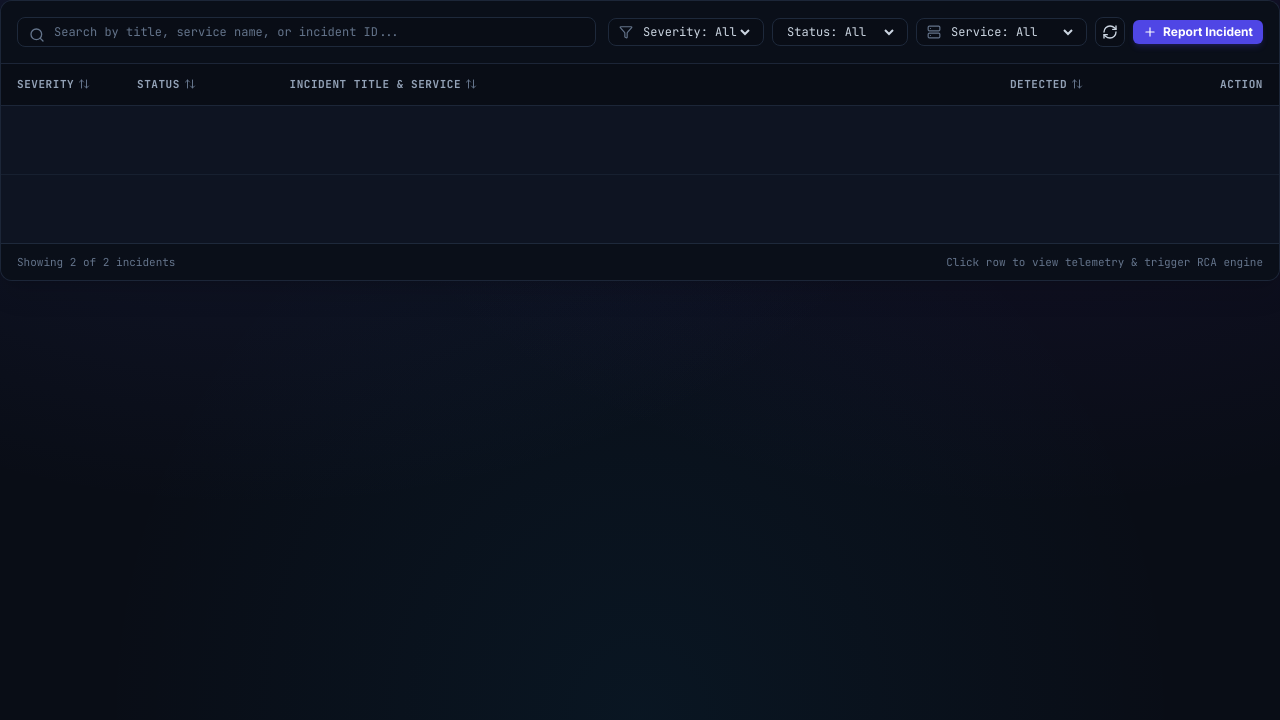
Test case: IncidentTable Component › should render incidents table and support search filtering
// Filter by search query
In the field with placeholder "Search by title, service name, or incident ID...": [307, 32] box [17,17,596,47], type "payment-service"
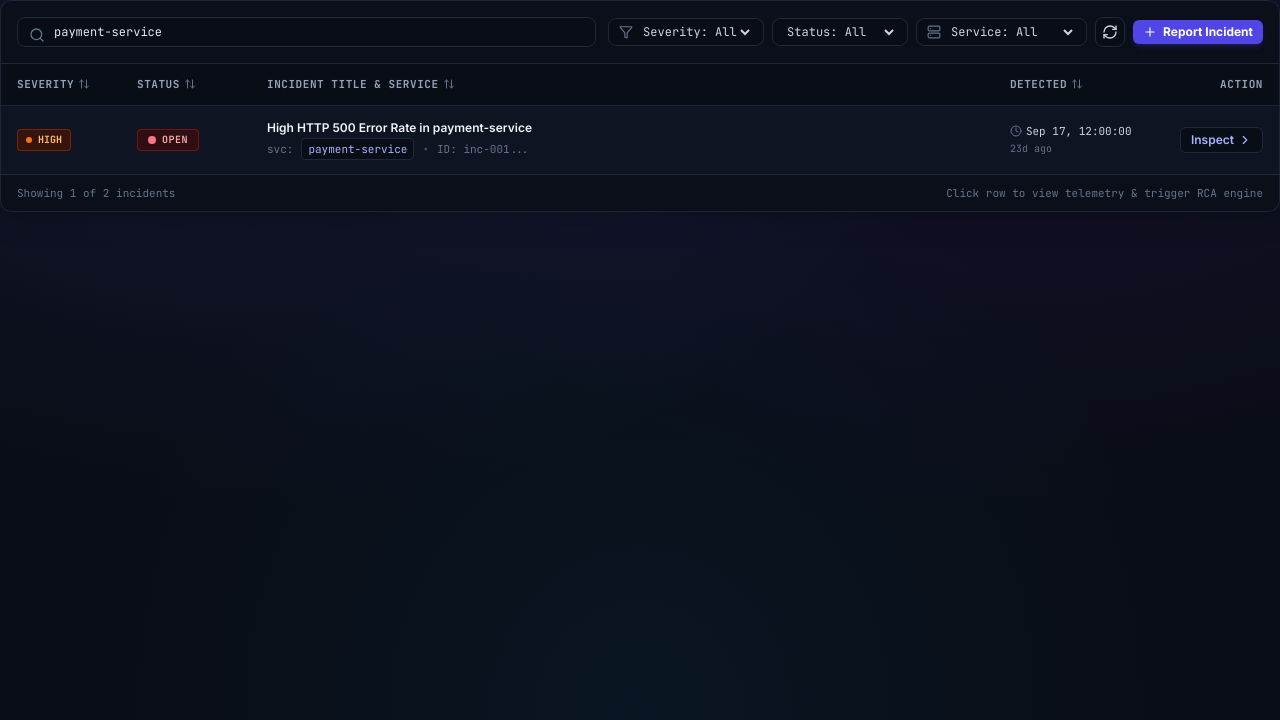
Expected: the text "High HTTP 500 Error Rate in payment-service" is shown, [267,120,532,134]
